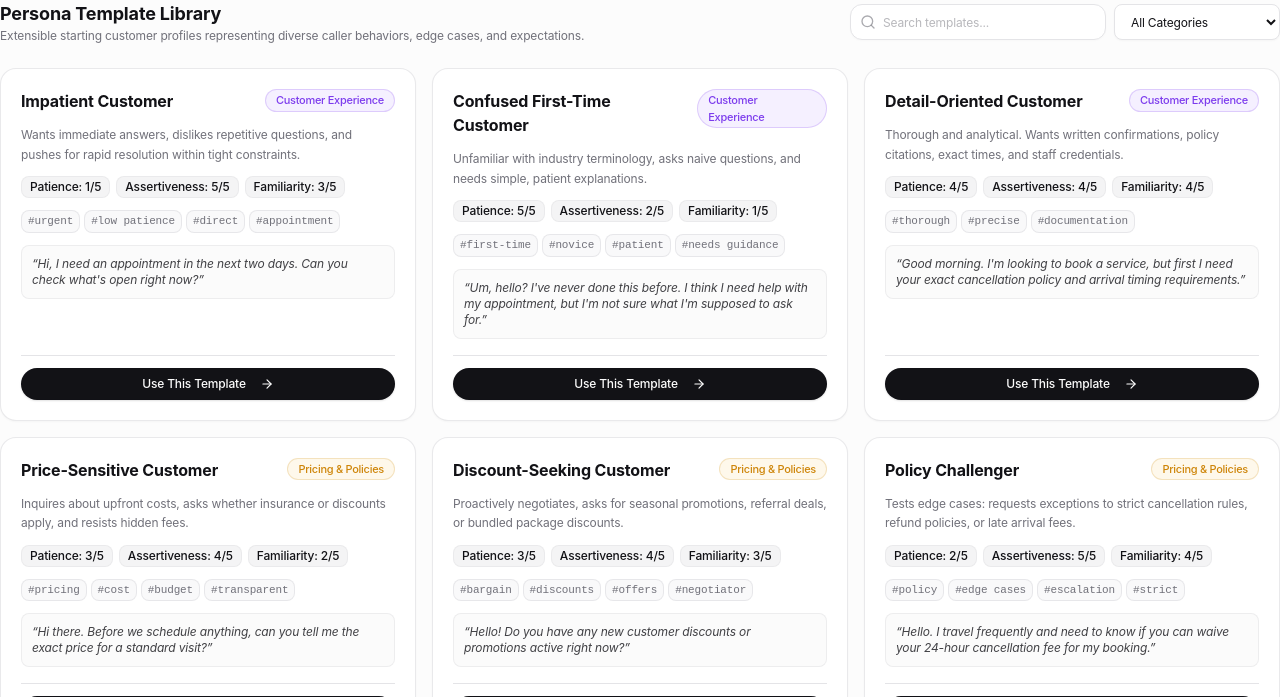
Test: TemplateLibrary › renders starter templates and allows filtering
Check: the heading "Persona Template Library" is shown, box [0,3,221,24]
Check: the heading "Impatient Customer" is shown, box [21,89,173,113]
// Filter by search
Type "confused" into the field with placeholder "Search templates..." at (978, 22), box [850,4,1106,40]
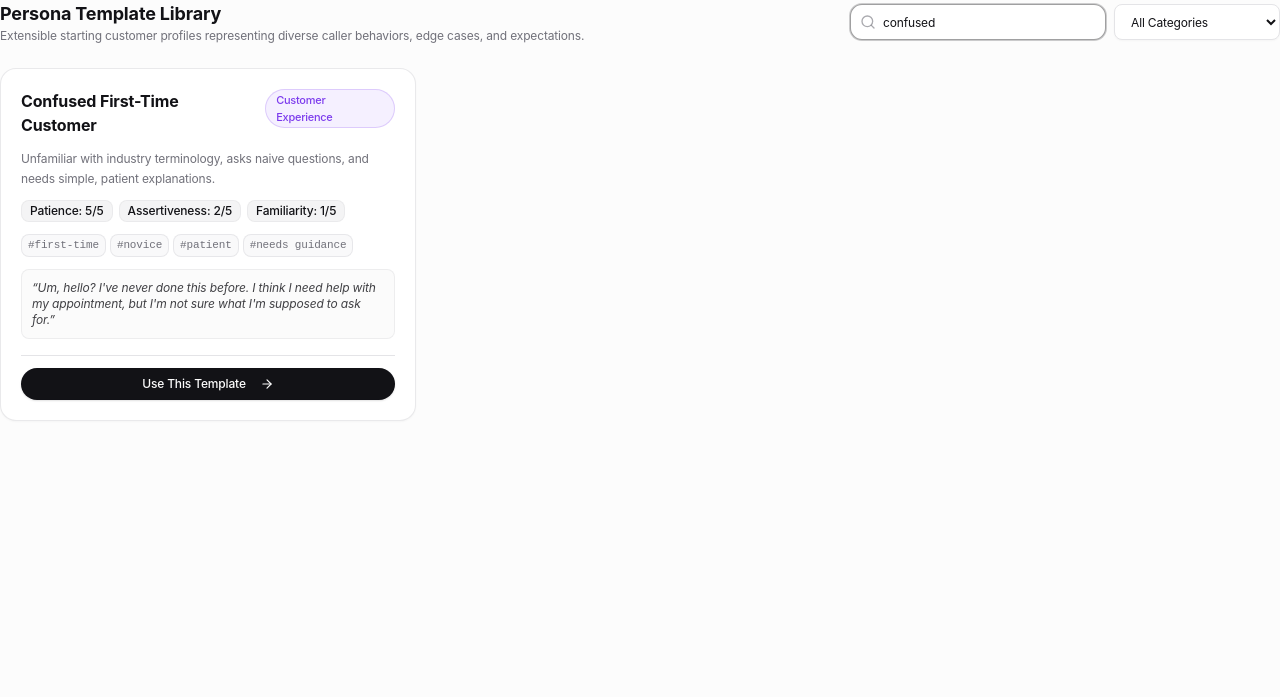
Check: the heading "Confused First-Time Customer" is shown, box [21,91,179,135]
Check: the heading "Impatient Customer" is gone
